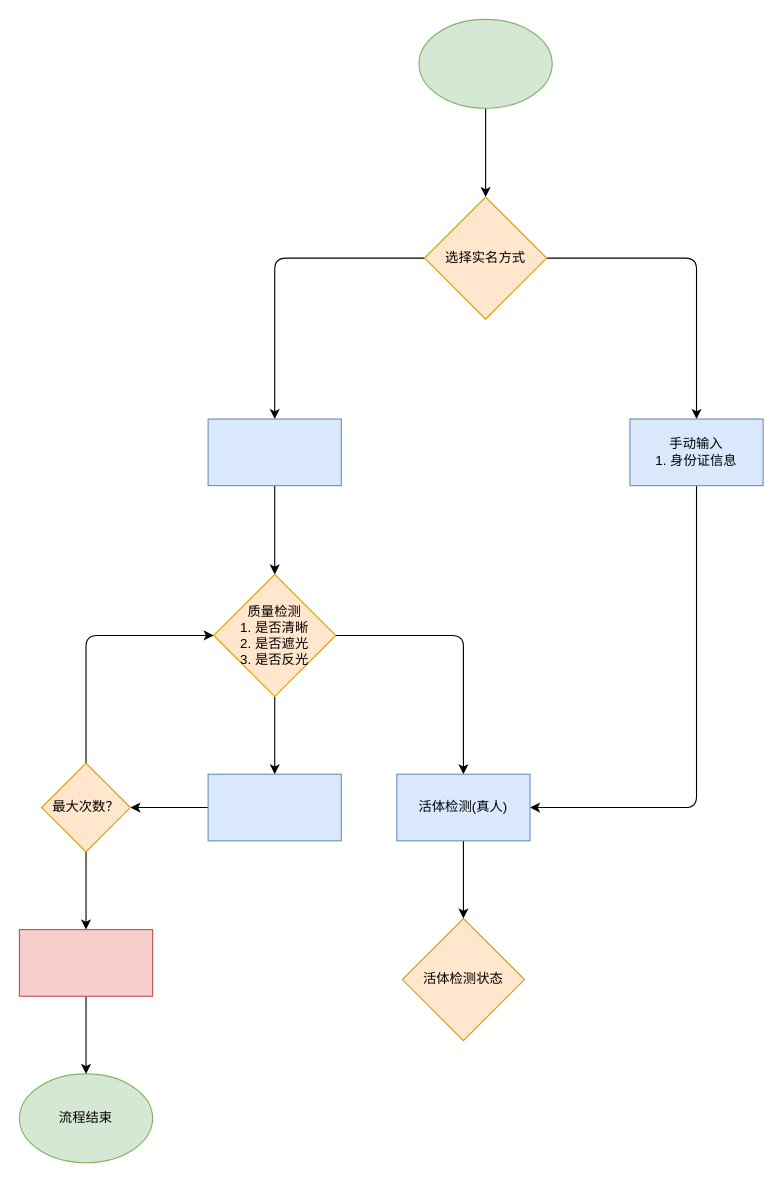
Image size: 783x1182. Some labels were removed from this diagram. Each missing label, with the centre of its shape:
开始实名: (x=485, y=63)
异常提示: (x=85, y=962)
识别提取 1. 身份证信息: (x=274, y=452)
重新识别: (x=274, y=807)
